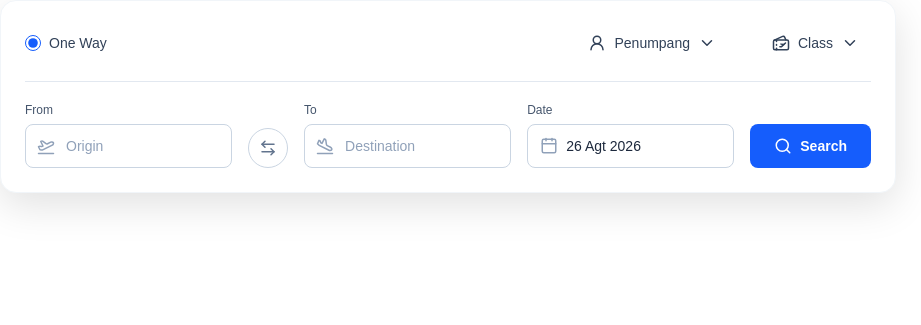
Test: InputFlight (flight) › increments and decrements the adult passenger count
Click the button "Penumpang". click: [652, 43]
box: [576, 25, 728, 61]
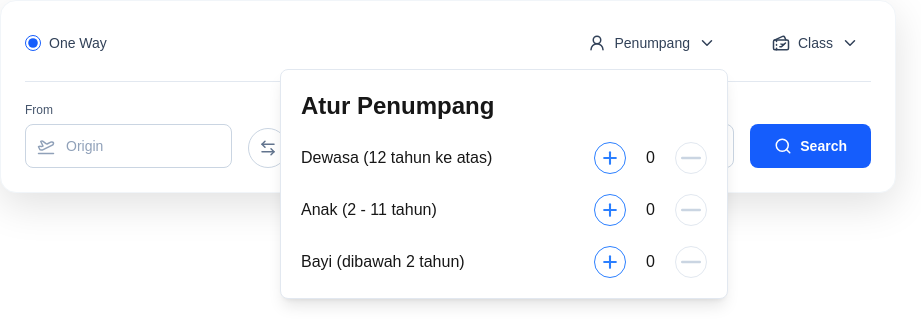
Expected: the text "0" next to "Dewasa (12 tahun ke atas)" is shown, [646, 149, 655, 166]
Click the 2nd button. click: [610, 158]
box: [594, 142, 626, 174]
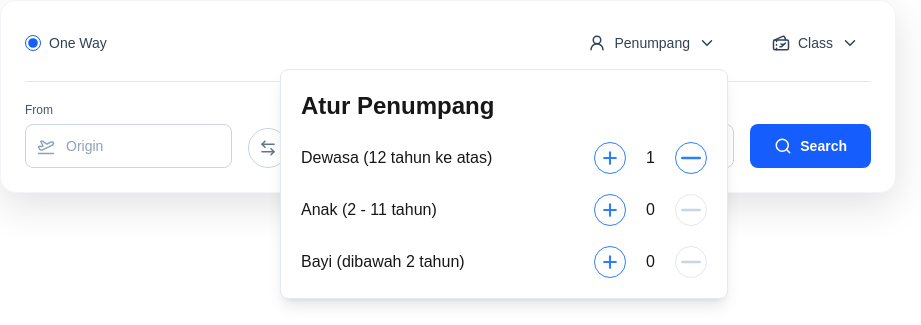
Expected: the text "1" is shown, [646, 146, 655, 170]
Click the 3rd button. click: [691, 158]
box: [675, 142, 707, 174]
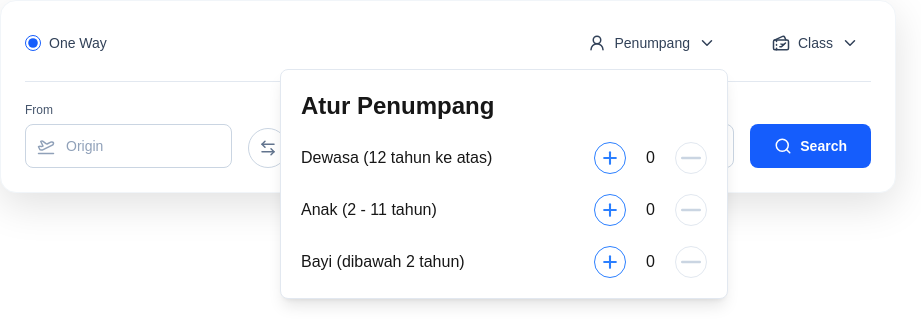
Expected: the text "0" next to "Dewasa (12 tahun ke atas)" is shown, [646, 149, 655, 166]
